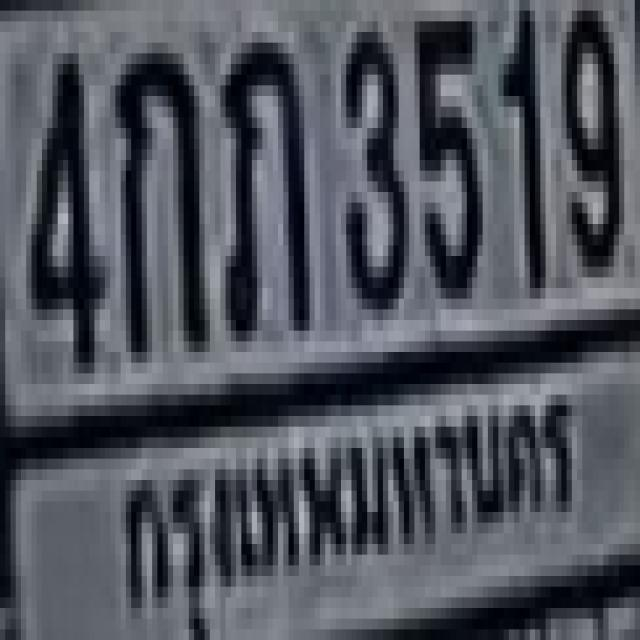-: (110, 37, 205, 347), (220, 32, 304, 331)
1: (498, 0, 534, 277)
3: (341, 21, 404, 299)
4: (26, 42, 100, 362)
5: (410, 11, 478, 288)
9: (561, 0, 619, 267)
BKK: (109, 362, 587, 640)
